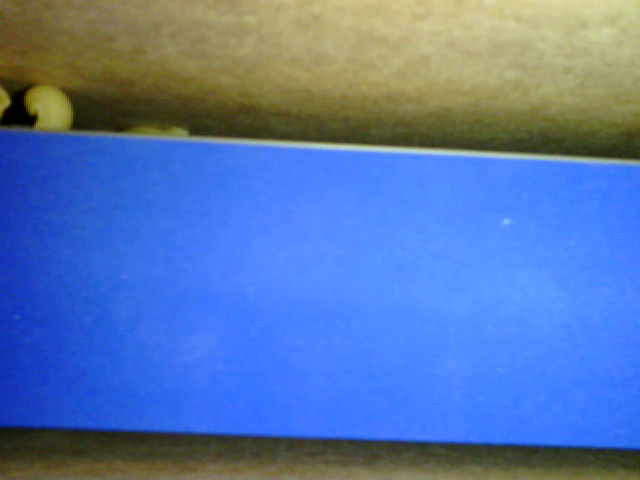shell: (21, 81, 73, 131)
